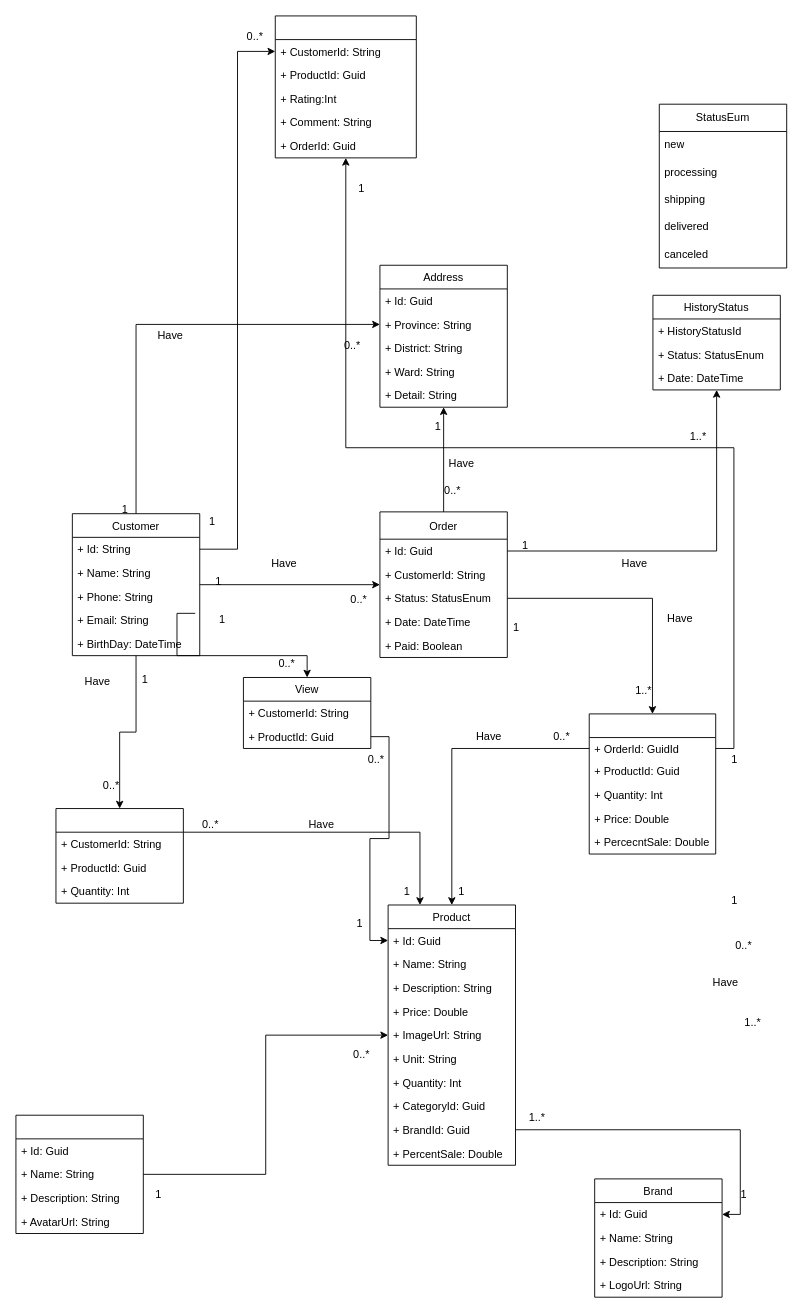
Some shapes in this 803 by 1316 pixel diagram are drawn without their labels. The box of each missing label's shape, as (x1, y1, x2, y2) in pixels:
CartItem: (55, 808, 183, 903)
Category: (15, 1114, 143, 1234)
OrderDetail: (588, 713, 716, 854)
Review: (274, 15, 416, 158)
